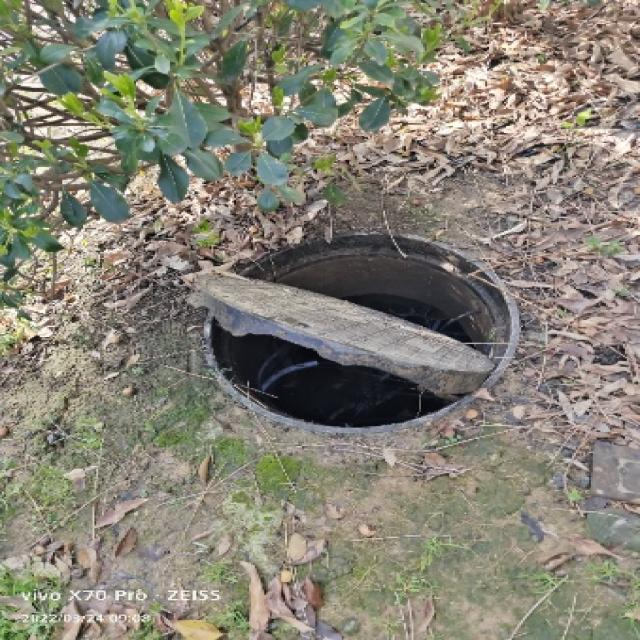Broken: (185, 227, 534, 430)
